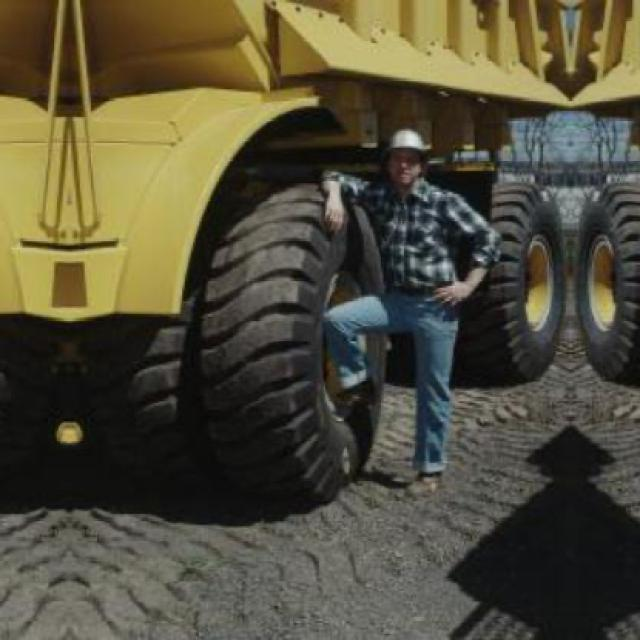con casco: (345, 104, 439, 234)
